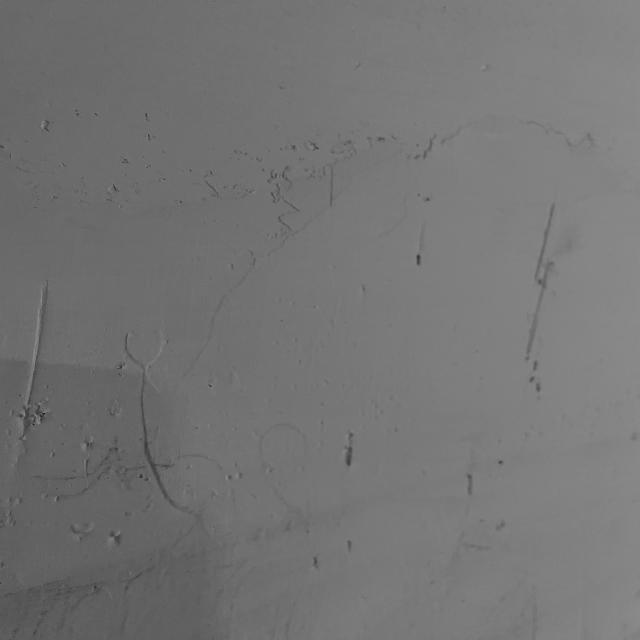rough and patchy surface: (0, 281, 205, 616), (173, 120, 386, 243), (12, 99, 166, 241), (487, 188, 578, 408), (396, 112, 598, 164), (441, 458, 507, 548), (383, 209, 435, 301), (293, 532, 357, 588), (329, 417, 362, 482), (329, 275, 371, 312)
